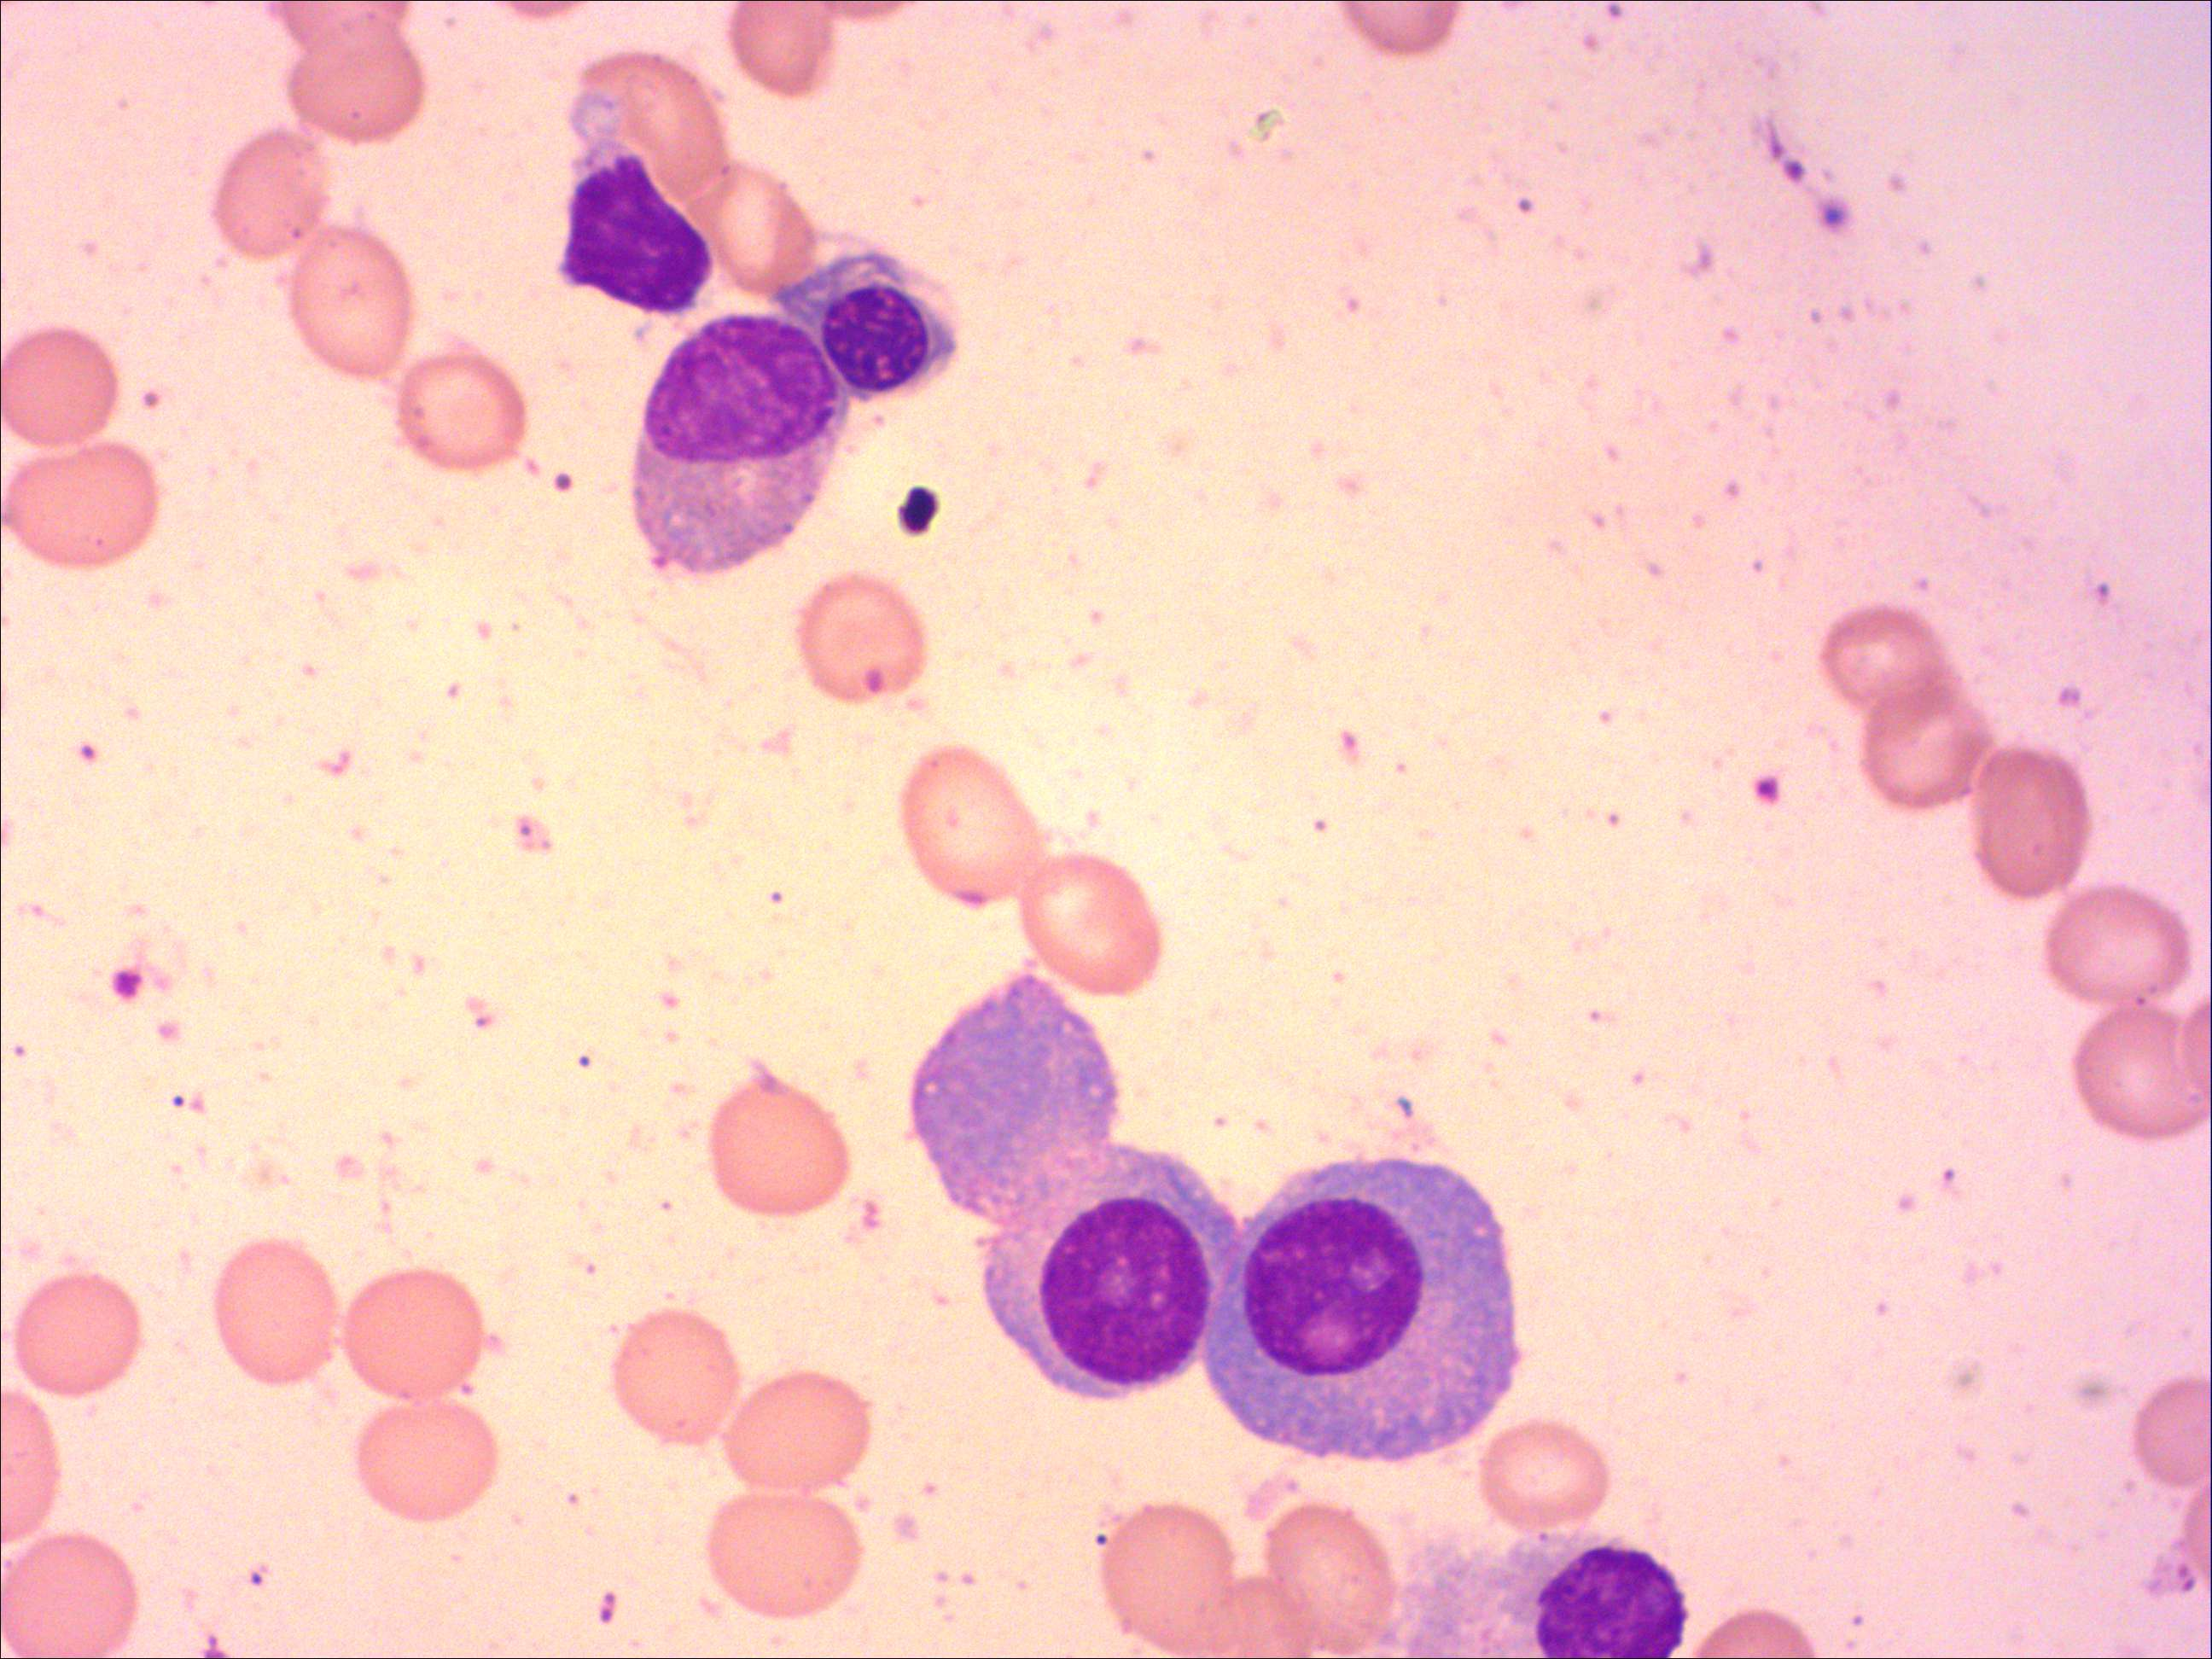24: (766, 230, 967, 404)
3: (629, 307, 859, 580)
32: (549, 80, 719, 321)
51: (1200, 1150, 1524, 1467), (977, 1136, 1252, 1410)
x: (1505, 1530, 1707, 1659)
